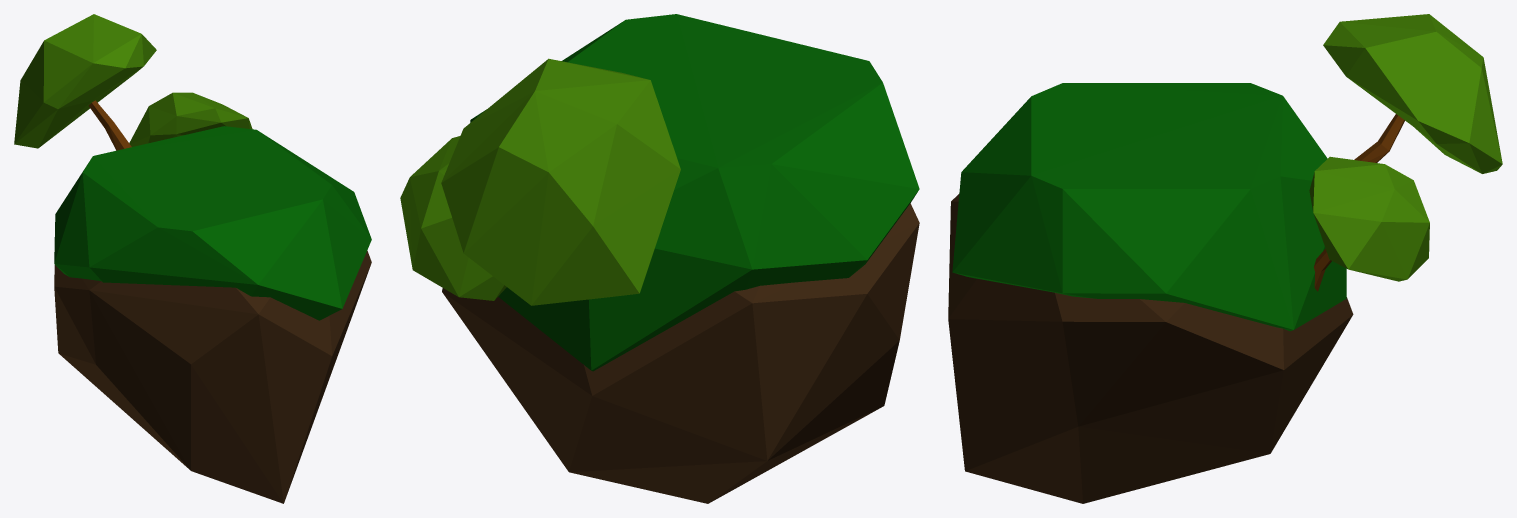
Rendered from island_2.obj.
3 views of the same model, side by side, from view 1: azimuth 30°, elevation 25°; view 2: azimuth 150°, elevation 25°; view 3: azimuth 270°, elevation 25° (orthographic). The views are drawn at different scales.
Visible parts, largest first — view 1: s.0140, s.0139, s.0147, s.0146, s.0149, s.0148; view 2: s.0139, s.0140, s.0147, s.0150, s.0146, s.0149; view 3: s.0139, s.0140, s.0147, s.0149, s.0150, s.0146, s.0148.
Boxes of the visible parts, box(x1,y1,x2,y2) form: s.0140: box(54, 250, 371, 503); s.0139: box(54, 126, 371, 320); s.0147: box(14, 14, 156, 143); s.0146: box(14, 63, 143, 148); s.0149: box(129, 92, 252, 146); s.0148: box(88, 100, 131, 150); s.0139: box(470, 14, 919, 371); s.0140: box(442, 203, 919, 503); s.0147: box(441, 58, 680, 305); s.0150: box(400, 169, 506, 300); s.0146: box(548, 238, 639, 303); s.0149: box(410, 136, 460, 176); s.0139: box(952, 83, 1346, 331); s.0140: box(948, 194, 1353, 503); s.0147: box(1323, 14, 1502, 163); s.0149: box(1309, 156, 1394, 269); s.0150: box(1348, 164, 1429, 281); s.0146: box(1347, 77, 1502, 173); s.0148: box(1354, 114, 1404, 162).
Size of the model in its own units: 2.61 by 3.29 by 3.54.
